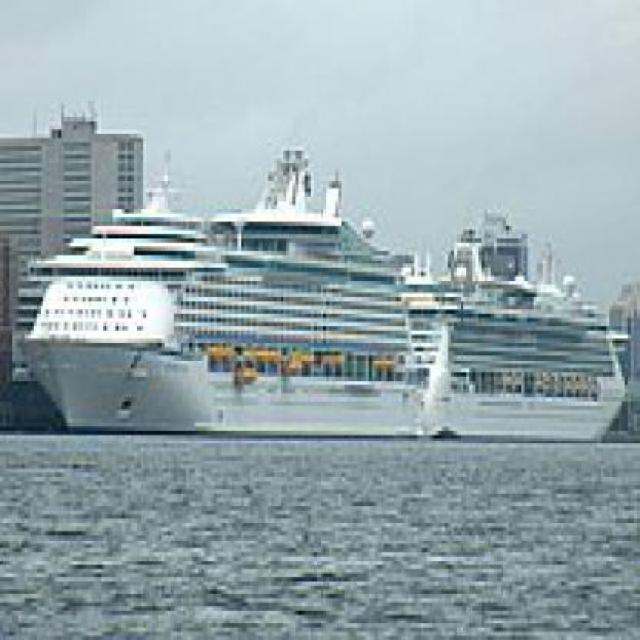cruise: (1, 138, 435, 446)
